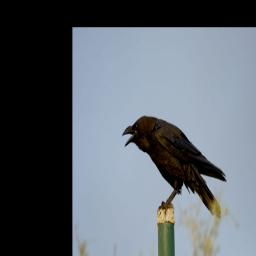Crow: (121, 110, 229, 219)
